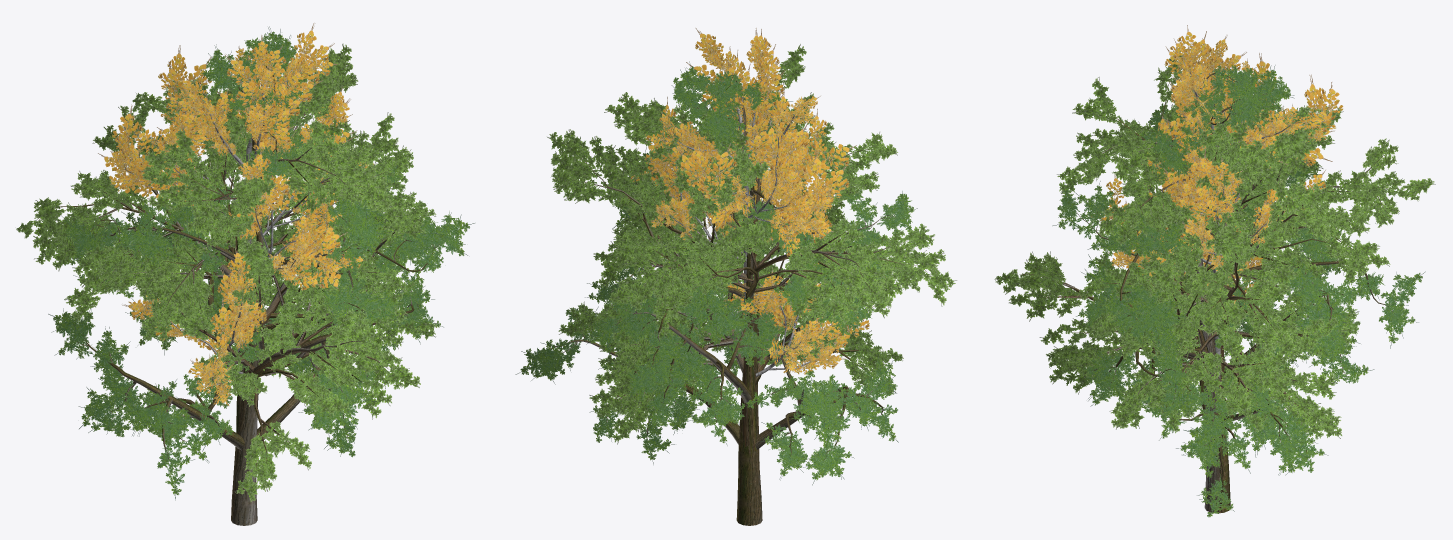
Rendered from trees.glb.
The picture shows the model from 3 angles, left to right: view 1: azimuth 30°, elevation 25°; view 2: azimuth 150°, elevation 25°; view 3: azimuth 270°, elevation 25°; orthographic projection. The views are drawn at different scales.
Parts seen in each view (by area): view 1: oak_leaves_lod0, ash_leaves_lod0, aspen_leaves_lod0, ash_bark_lod0, oak_bark_lod0, aspen_bark_lod0; view 2: oak_leaves_lod0, ash_leaves_lod0, aspen_leaves_lod0, ash_bark_lod0, oak_bark_lod0, aspen_bark_lod0; view 3: oak_leaves_lod0, ash_leaves_lod0, aspen_leaves_lod0, ash_bark_lod0, oak_bark_lod0.
Boxes of the visible parts, x1=… form: oak_leaves_lod0: x1=16, y1=43, x2=437, y2=501; ash_leaves_lod0: x1=48, y1=26, x2=474, y2=500; aspen_leaves_lod0: x1=98, y1=23, x2=373, y2=406; ash_bark_lod0: x1=74, y1=66, x2=450, y2=525; oak_bark_lod0: x1=38, y1=74, x2=413, y2=468; aspen_bark_lod0: x1=124, y1=73, x2=335, y2=384; oak_leaves_lod0: x1=547, y1=44, x2=956, y2=444; ash_leaves_lod0: x1=515, y1=61, x2=917, y2=485; aspen_leaves_lod0: x1=626, y1=28, x2=873, y2=374; ash_bark_lod0: x1=540, y1=74, x2=896, y2=525; oak_bark_lod0: x1=578, y1=78, x2=931, y2=459; aspen_bark_lod0: x1=660, y1=68, x2=833, y2=376; oak_leaves_lod0: x1=994, y1=49, x2=1435, y2=439; ash_leaves_lod0: x1=1052, y1=65, x2=1425, y2=517; aspen_leaves_lod0: x1=1091, y1=25, x2=1343, y2=308; ash_bark_lod0: x1=1076, y1=72, x2=1401, y2=513; oak_bark_lod0: x1=1020, y1=78, x2=1404, y2=416.
Size of what is drawn, in the model's own units: 5.13 by 6.1 by 5.06.
Materials: 6 (6 with a texture image).
